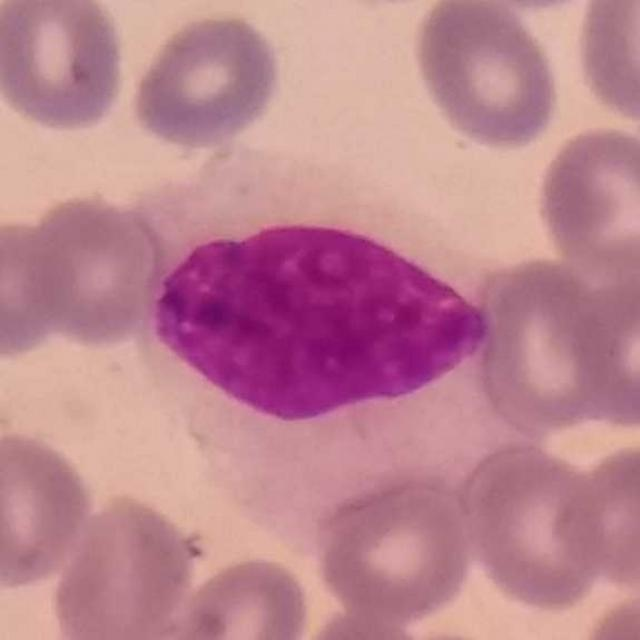Monocyte: (154, 148, 512, 520)
RBC: (466, 252, 628, 438), (455, 436, 612, 614), (312, 472, 476, 624), (14, 189, 166, 352), (408, 0, 564, 154), (45, 488, 202, 640), (125, 8, 286, 151), (0, 0, 130, 136), (532, 120, 640, 278), (0, 425, 98, 592), (552, 435, 640, 590), (163, 551, 316, 640), (564, 258, 640, 434), (0, 210, 79, 364), (570, 0, 640, 128), (287, 607, 439, 640), (574, 583, 640, 640)
